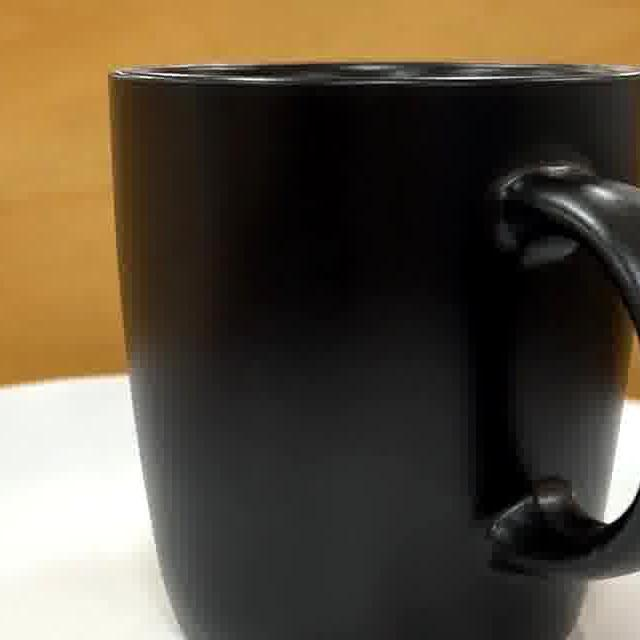cup: (115, 64, 640, 640)
